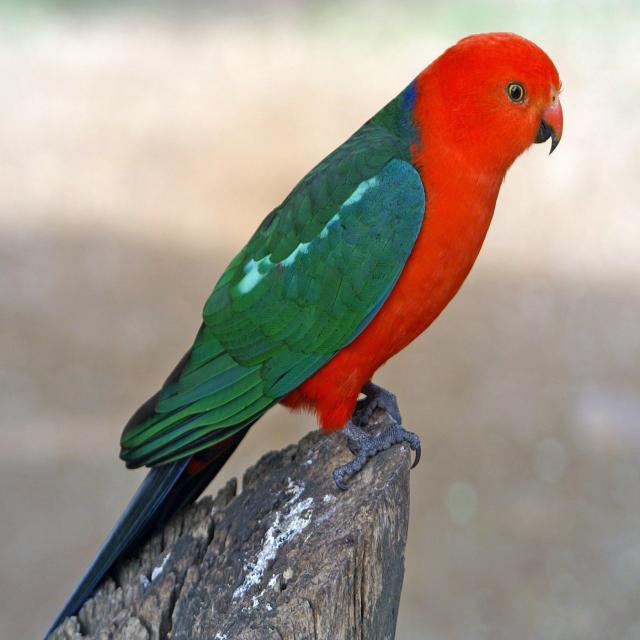Parrot: (56, 30, 568, 640)
